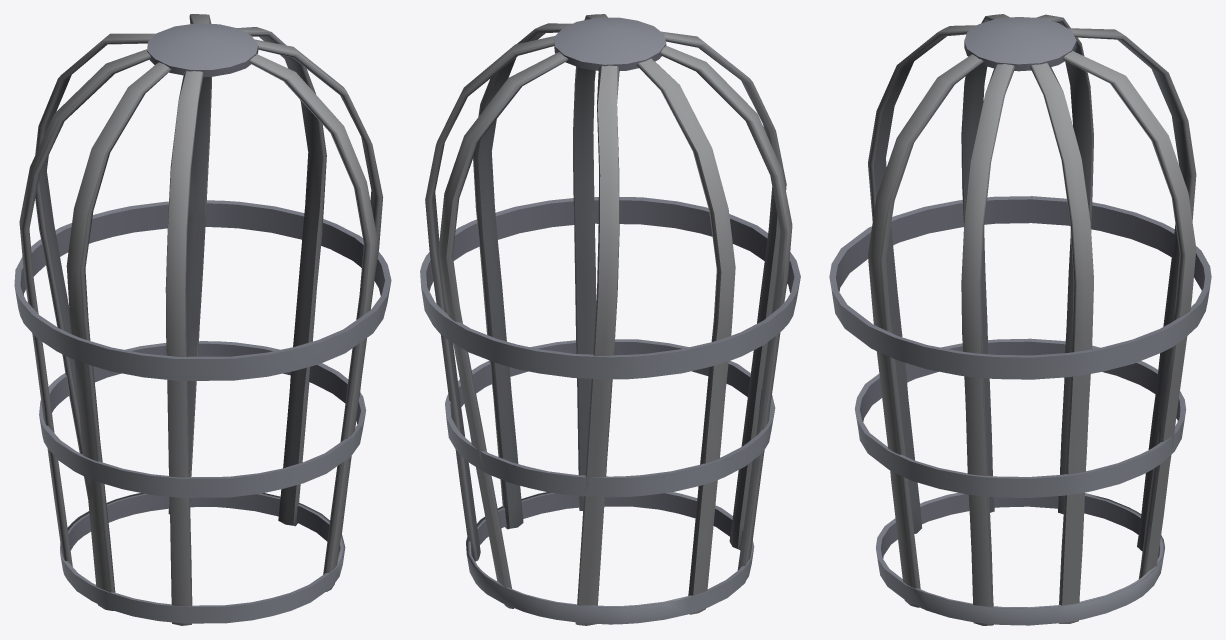
The model's file is cage (1).fbx.
3 renders of one model, left to right at view 1: azimuth 30°, elevation 25°; view 2: azimuth 150°, elevation 25°; view 3: azimuth 270°, elevation 25°, orthographic.
Visible parts, largest first — view 1: polySurface2, polySurface1, polySurface4, polySurface12, polySurface7, polySurface8, polySurface10, polySurface5, polySurface9, polySurface6, polySurface3, polySurface11; view 2: polySurface2, polySurface6, polySurface5, polySurface4, polySurface7, polySurface9, polySurface11, polySurface10, polySurface12, polySurface1, polySurface8, polySurface3; view 3: polySurface2, polySurface4, polySurface8, polySurface11, polySurface10, polySurface7, polySurface9, polySurface1, polySurface6, polySurface3, polySurface5, polySurface12.
Boxes of the visible parts, left/top/right/bottom form: polySurface2: left=14, top=200, right=391, bottom=380; polySurface1: left=165, top=71, right=204, bottom=625; polySurface4: left=39, top=341, right=366, bottom=497; polySurface12: left=66, top=62, right=171, bottom=610; polySurface7: left=60, top=493, right=345, bottom=623; polySurface8: left=237, top=27, right=326, bottom=526; polySurface10: left=249, top=54, right=377, bottom=591; polySurface5: left=19, top=49, right=150, bottom=566; polySurface9: left=168, top=14, right=211, bottom=514; polySurface6: left=35, top=33, right=155, bottom=497; polySurface3: left=147, top=23, right=258, bottom=76; polySurface11: left=254, top=39, right=383, bottom=536; polySurface2: left=420, top=197, right=800, bottom=379; polySurface6: left=575, top=65, right=619, bottom=625; polySurface5: left=637, top=58, right=735, bottom=614; polySurface4: left=445, top=339, right=775, bottom=497; polySurface7: left=466, top=492, right=754, bottom=624; polySurface9: left=438, top=52, right=568, bottom=608; polySurface11: left=473, top=23, right=572, bottom=529; polySurface10: left=573, top=14, right=607, bottom=510; polySurface12: left=660, top=45, right=792, bottom=584; polySurface1: left=661, top=31, right=786, bottom=550; polySurface8: left=425, top=36, right=554, bottom=561; polySurface3: left=554, top=17, right=666, bottom=70; polySurface2: left=829, top=196, right=1211, bottom=379; polySurface4: left=855, top=338, right=1186, bottom=497; polySurface8: left=1030, top=63, right=1093, bottom=623; polySurface11: left=961, top=64, right=1015, bottom=625; polySurface10: left=868, top=54, right=983, bottom=607; polySurface7: left=876, top=492, right=1164, bottom=625; polySurface9: left=1063, top=50, right=1196, bottom=578; polySurface1: left=868, top=25, right=976, bottom=533; polySurface6: left=1068, top=28, right=1196, bottom=551; polySurface3: left=964, top=17, right=1076, bottom=71; polySurface5: left=1036, top=14, right=1093, bottom=514; polySurface12: left=961, top=14, right=1010, bottom=512.
Bounding box in the file's own units: 176 × 275 × 176.
